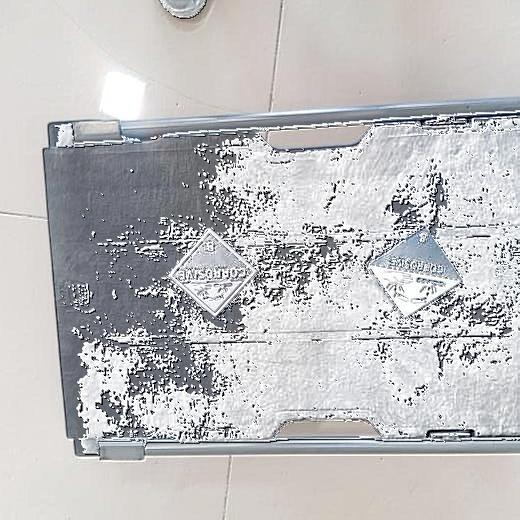corrosive: (369, 227, 462, 319), (169, 227, 256, 317)
